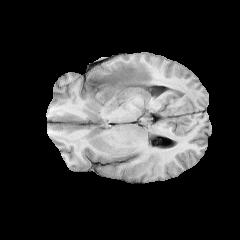glioma: (88, 59, 159, 102)
